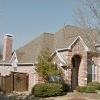Chimney: (2, 28, 16, 69)
